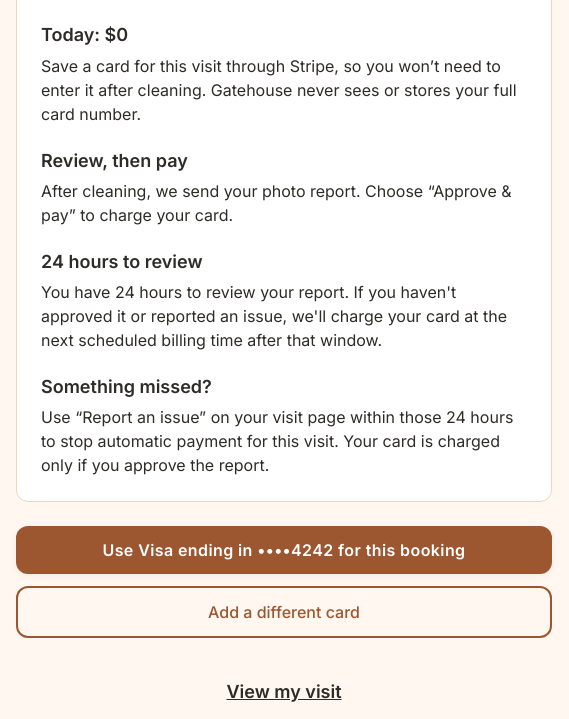
Test: visit cancelled during card setup › shows the cancellation when Use Visa ending in ••••4242 for this booking is clicked at /save-card
This screenshot has width=569, height=719.
(page scrolled)
Click the button "Use Visa ending in ••••4242 for this booking" at [284, 550], box [16,526,552,574]
(page scrolled)
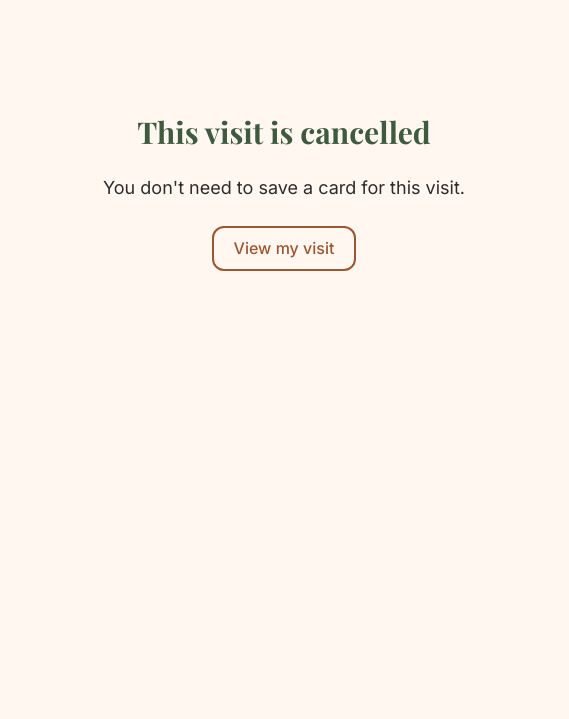
Check: the heading "This visit is cancelled" is shown, box [137,112,431,152]
Check: the button "Use Visa ending in ••••4242 for this booking" is gone
